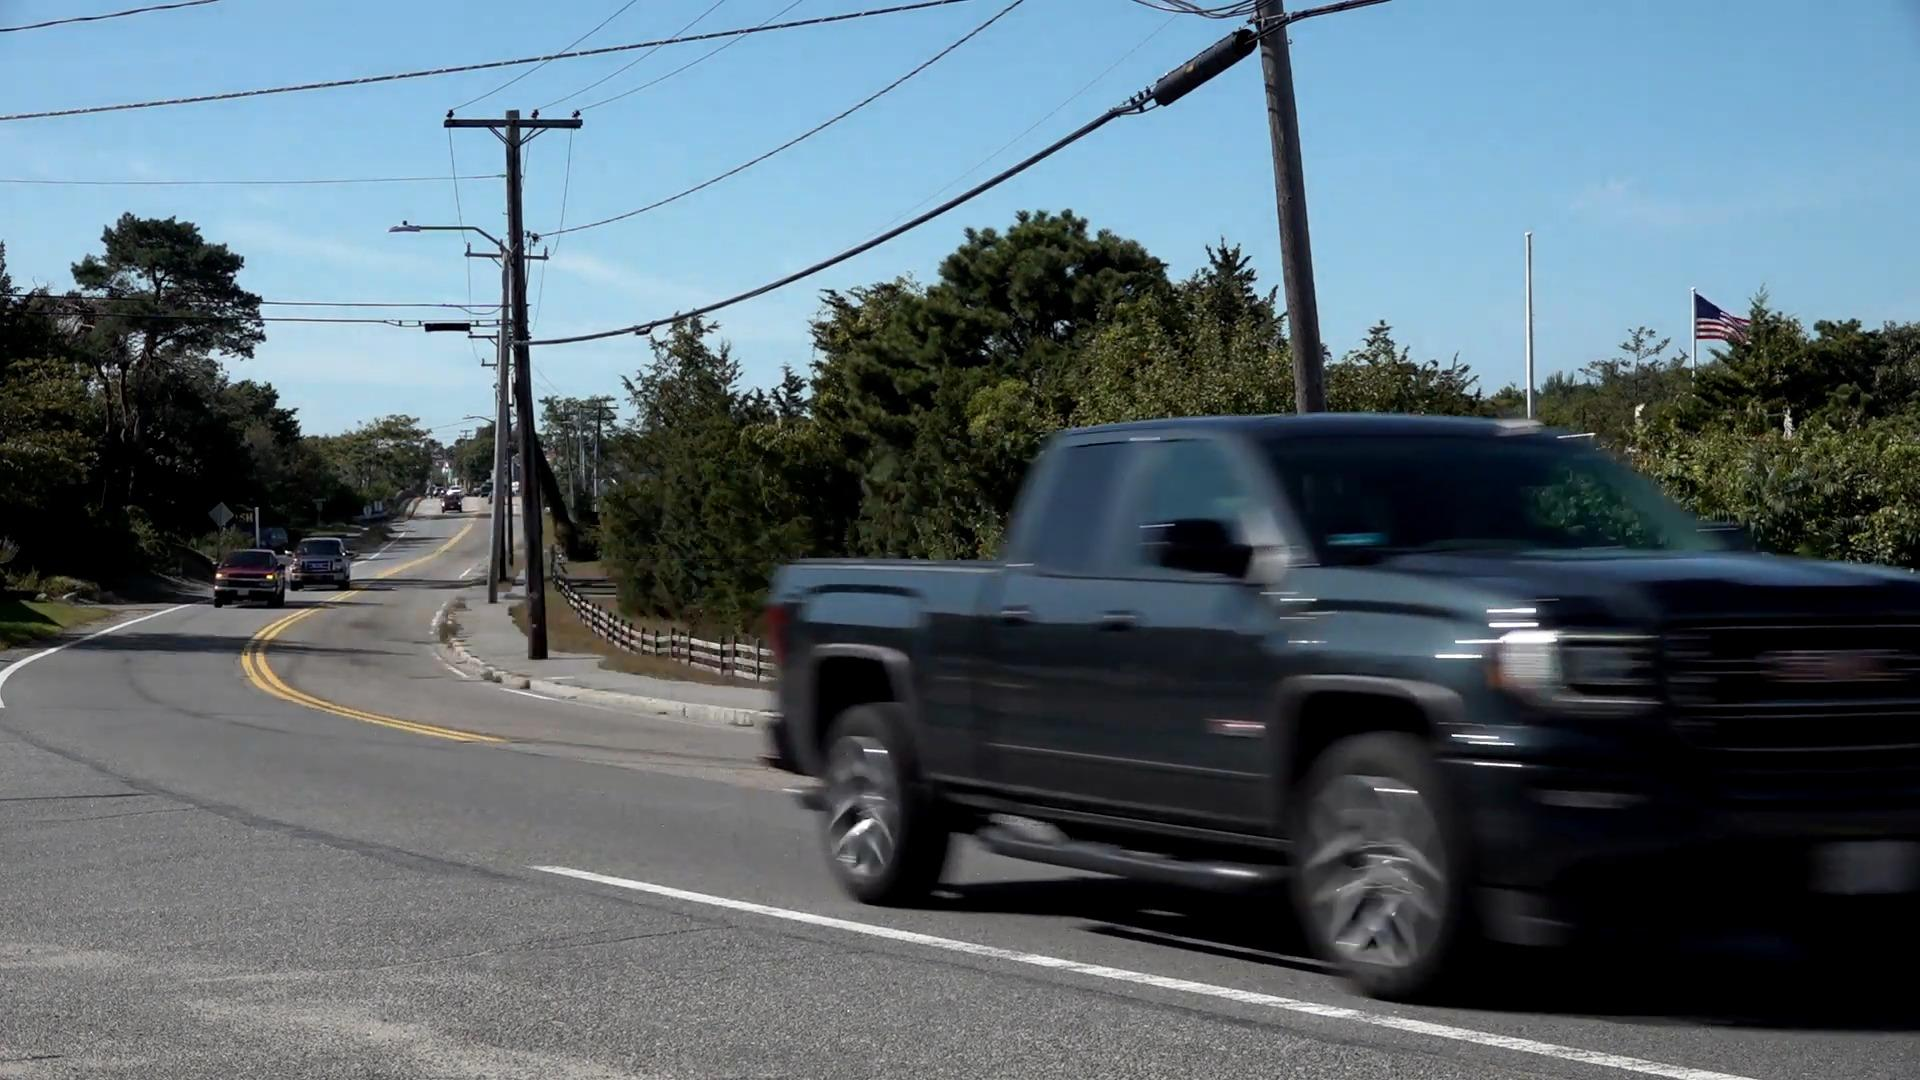pickup: (767, 414, 1920, 1000), (216, 549, 289, 609), (291, 540, 357, 590)
